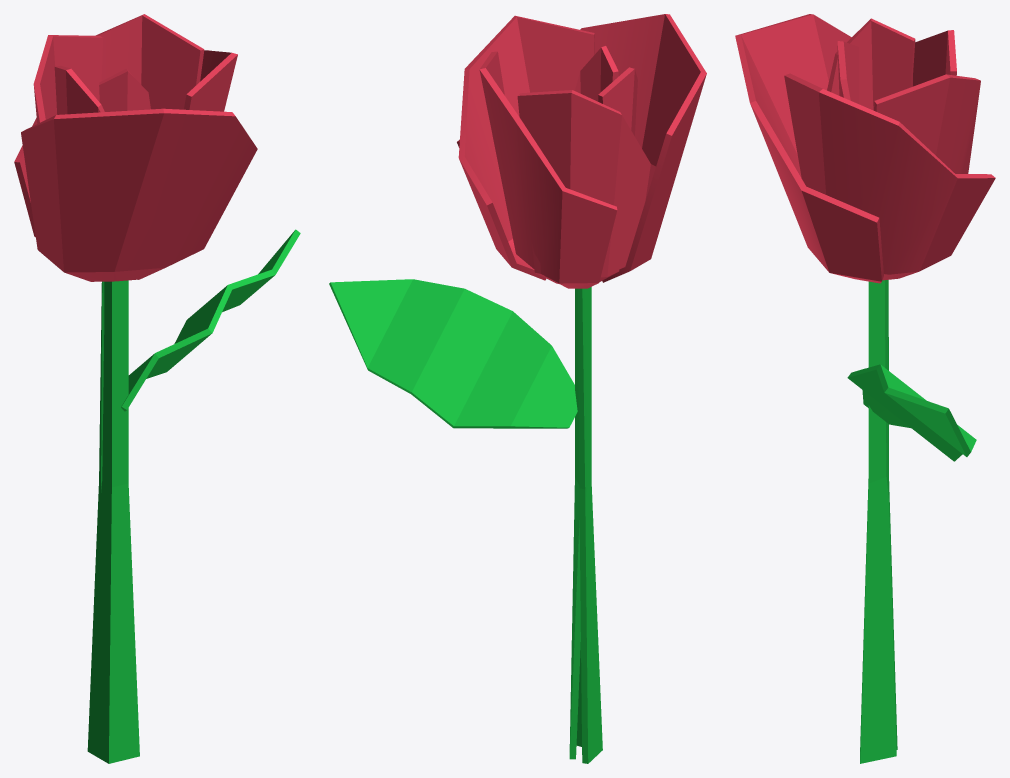
Rendered from rose.fbx.
3 views of the same model, side by side, from view 1: azimuth 30°, elevation 25°; view 2: azimuth 150°, elevation 25°; view 3: azimuth 270°, elevation 25° (orthographic). The views are drawn at different scales.
Visible parts, largest first — view 1: Rose; view 2: Rose; view 3: Rose.
Boxes of the visible parts, left/top/right/bottom form: Rose: left=14, top=14, right=300, bottom=763; Rose: left=329, top=14, right=706, bottom=763; Rose: left=735, top=14, right=995, bottom=763.
Size of the model in its own units: 390 by 831 by 276.
